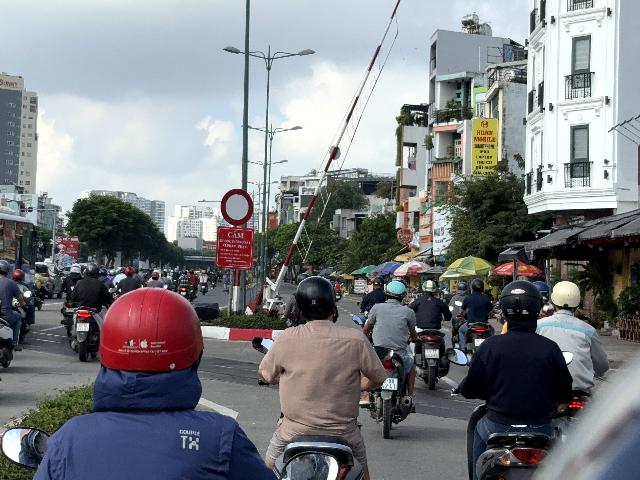duong-cam: (220, 187, 254, 227)
